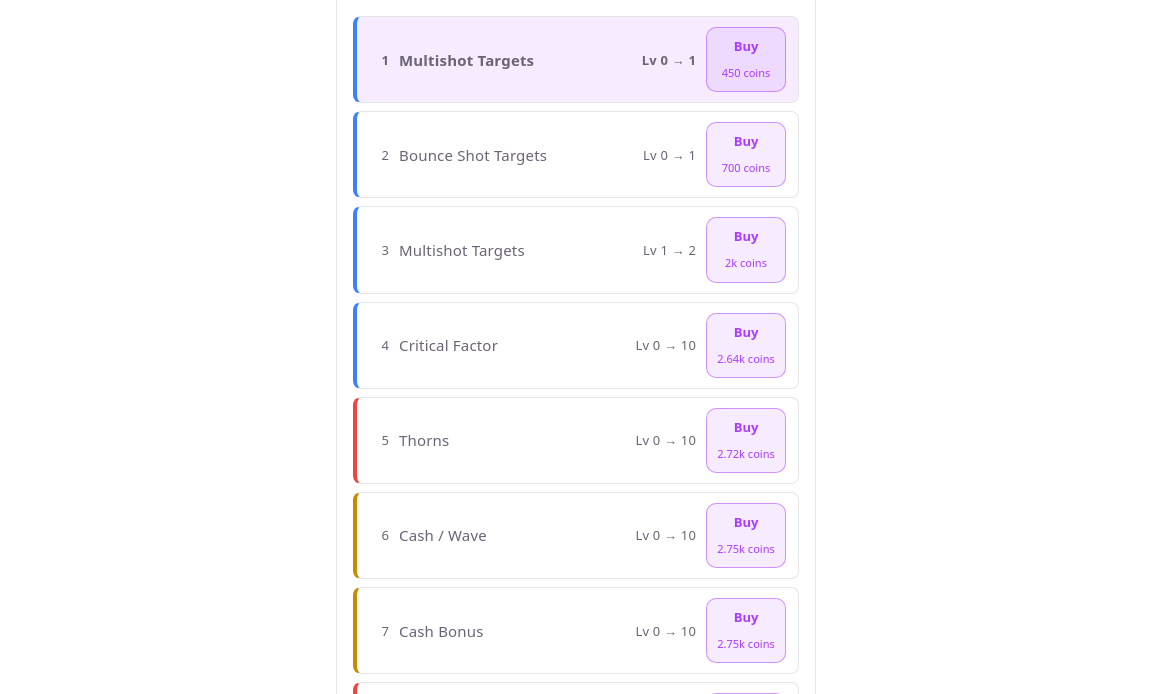
it: UpgradePath › buying a later occurrence of a repeated upgrade (OQ-19 + confirmation) › buys every occurrence up to and including this row when "Buy all" is chosen
Click the button "Buy 2k coins". click: (746, 250)
box: [706,217,786,283]
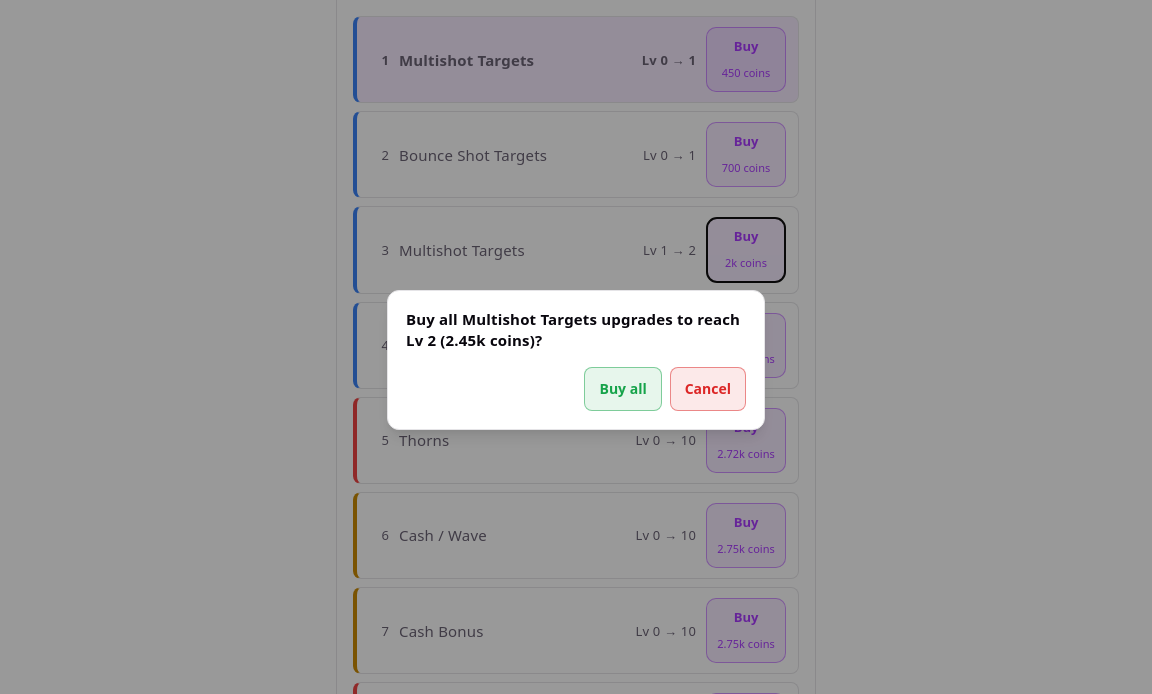
Click the button "Buy all". click: (623, 389)
box: [584,367,662,411]
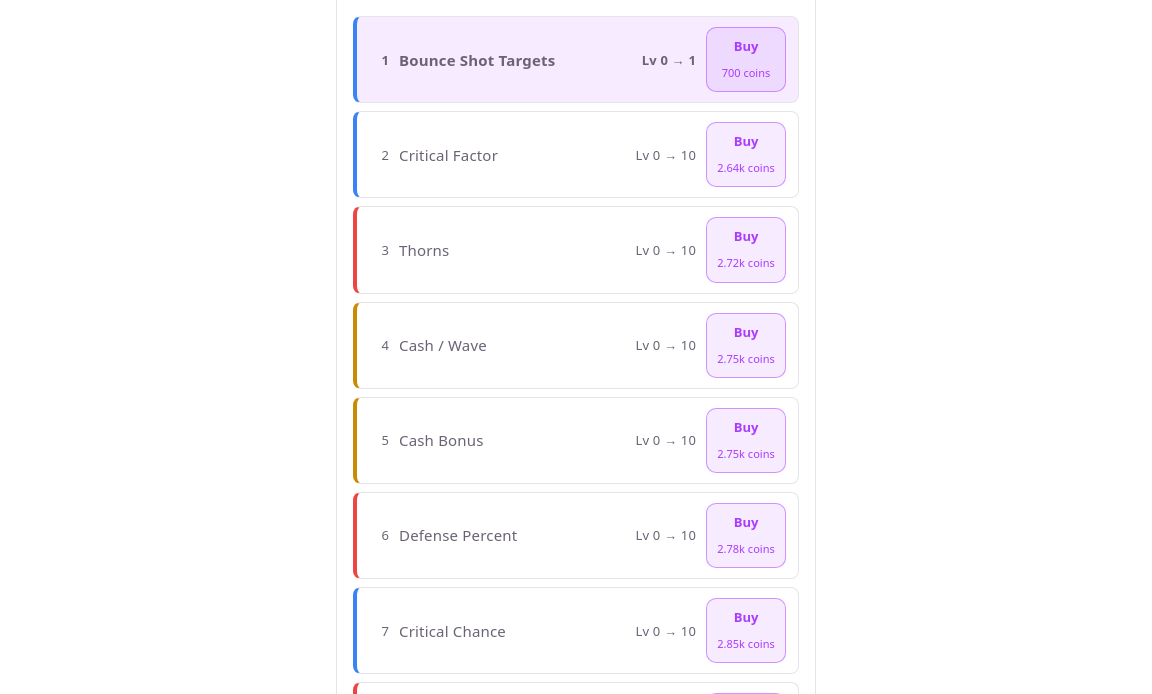
Result: the dialog is gone
